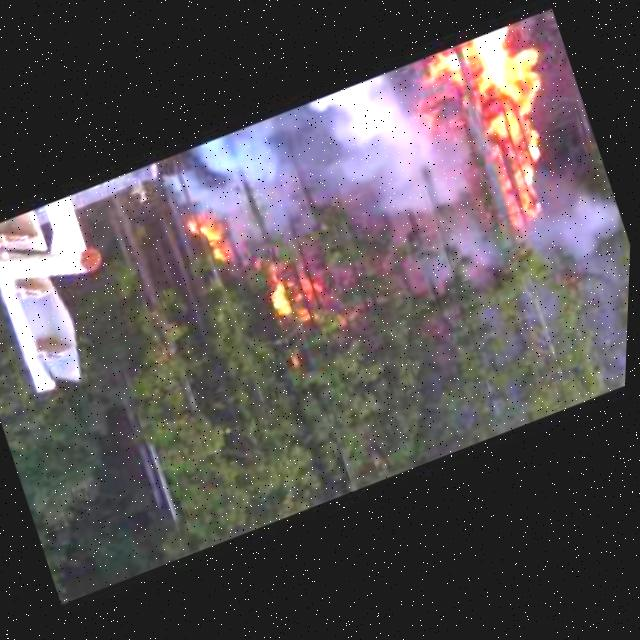Fire: (400, 19, 604, 260), (268, 250, 337, 330), (189, 210, 241, 273)
Smoke: (388, 14, 618, 279), (167, 160, 375, 399)
